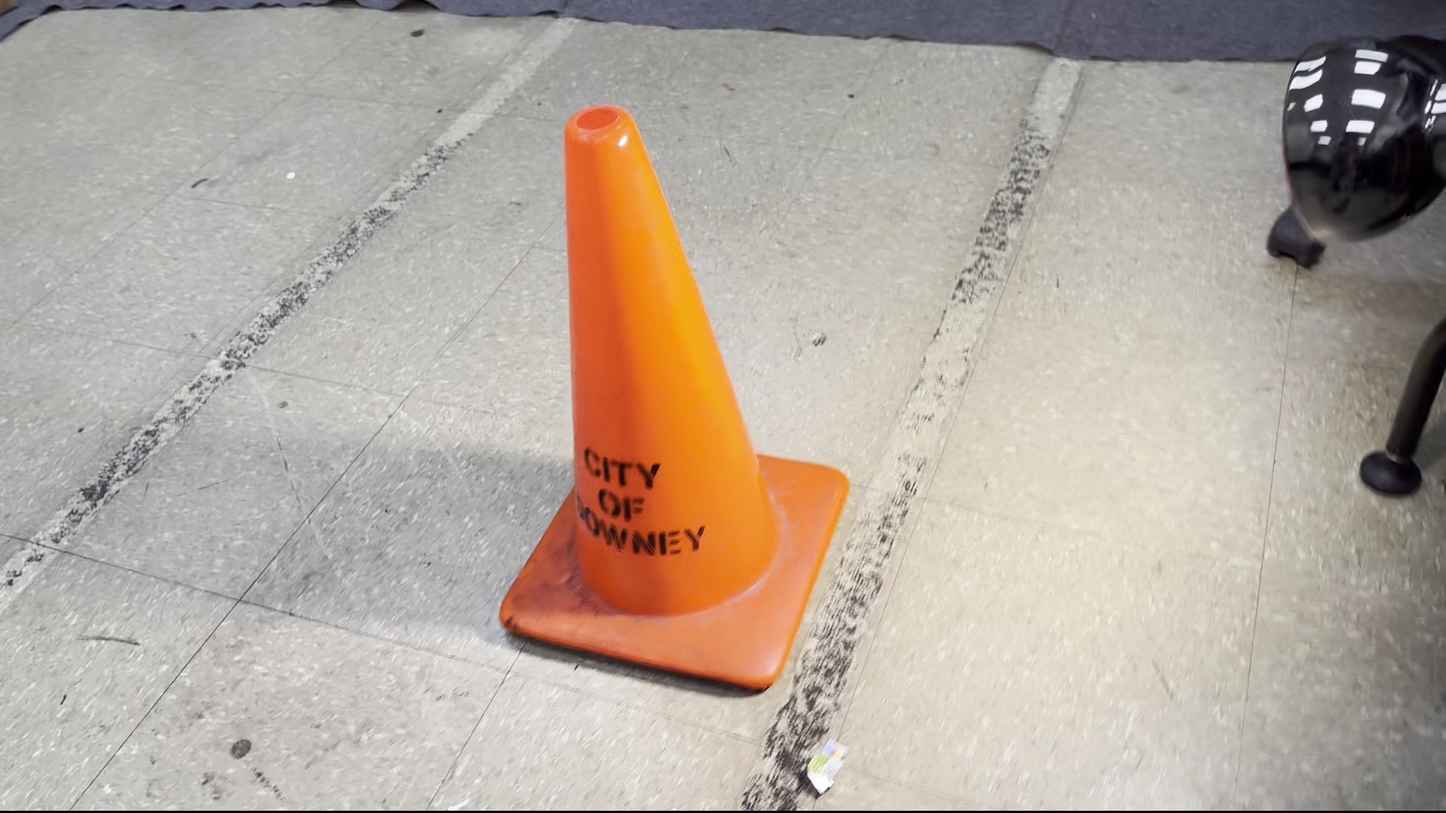traffic_cone: (498, 103, 850, 693)
